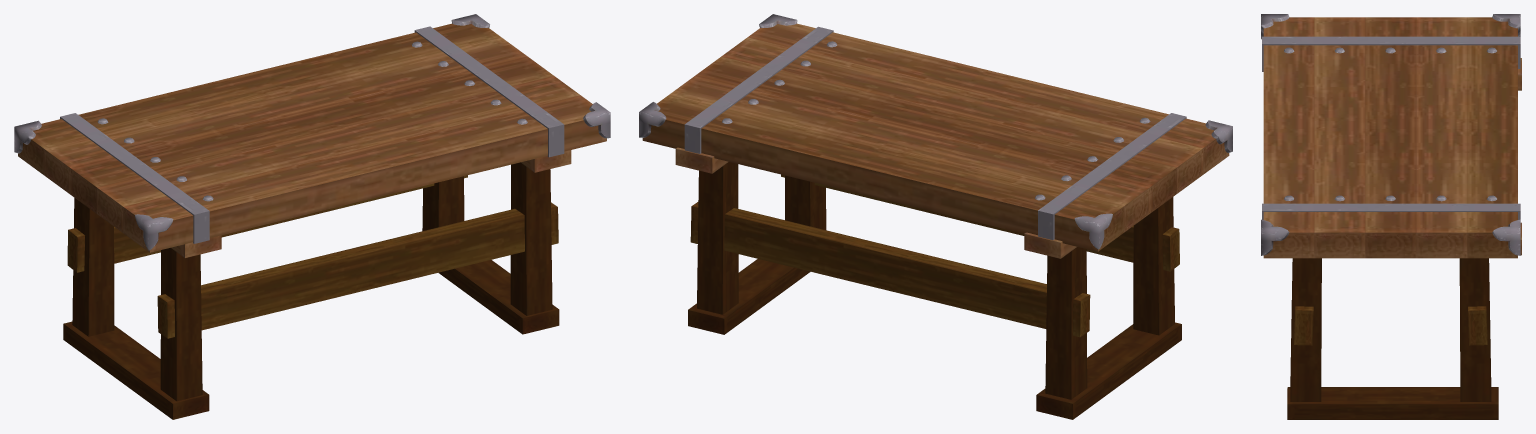
The model's file is Workbench.glb.
The picture shows the model from 3 angles, left to right: view 1: azimuth 30°, elevation 25°; view 2: azimuth 150°, elevation 25°; view 3: azimuth 270°, elevation 25°; orthographic projection. The views are drawn at different scales.
Visible parts, largest first — view 1: Workbench; view 2: Workbench; view 3: Workbench.
Boxes of the visible parts, x1,y1,x2,y2 form: Workbench: (14, 14, 610, 419); Workbench: (639, 14, 1232, 419); Workbench: (1261, 14, 1521, 419).
Size of the model in its own units: 2.02 by 0.8945 by 1.02.
2 materials, 2 textured.
